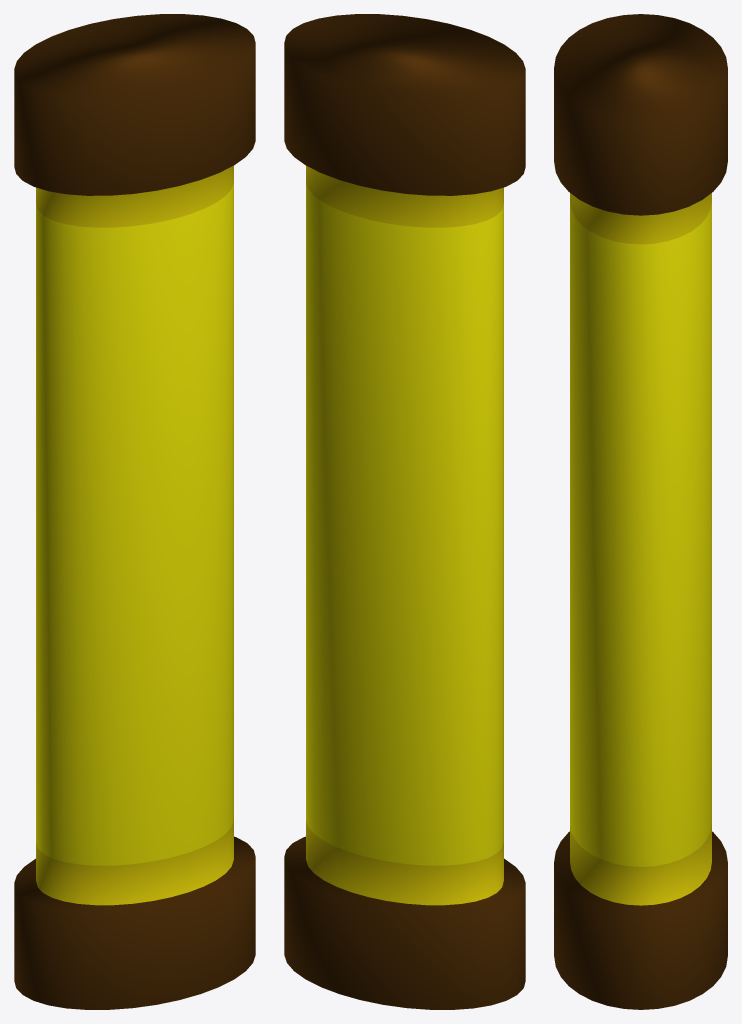
File: zeus weapon.fbx
3 views of the same model, side by side, from view 1: azimuth 30°, elevation 25°; view 2: azimuth 150°, elevation 25°; view 3: azimuth 270°, elevation 25° (orthographic). The views are drawn at different scales.
Visible parts, largest first — view 1: Cylinder; view 2: Cylinder; view 3: Cylinder.
Boxes of the visible parts, x1,y1,x2,y2 form: Cylinder: [14, 14, 255, 1009]; Cylinder: [284, 14, 525, 1009]; Cylinder: [554, 14, 727, 1009].
Size of the model in its own units: 26.1 by 101 by 17.91.
